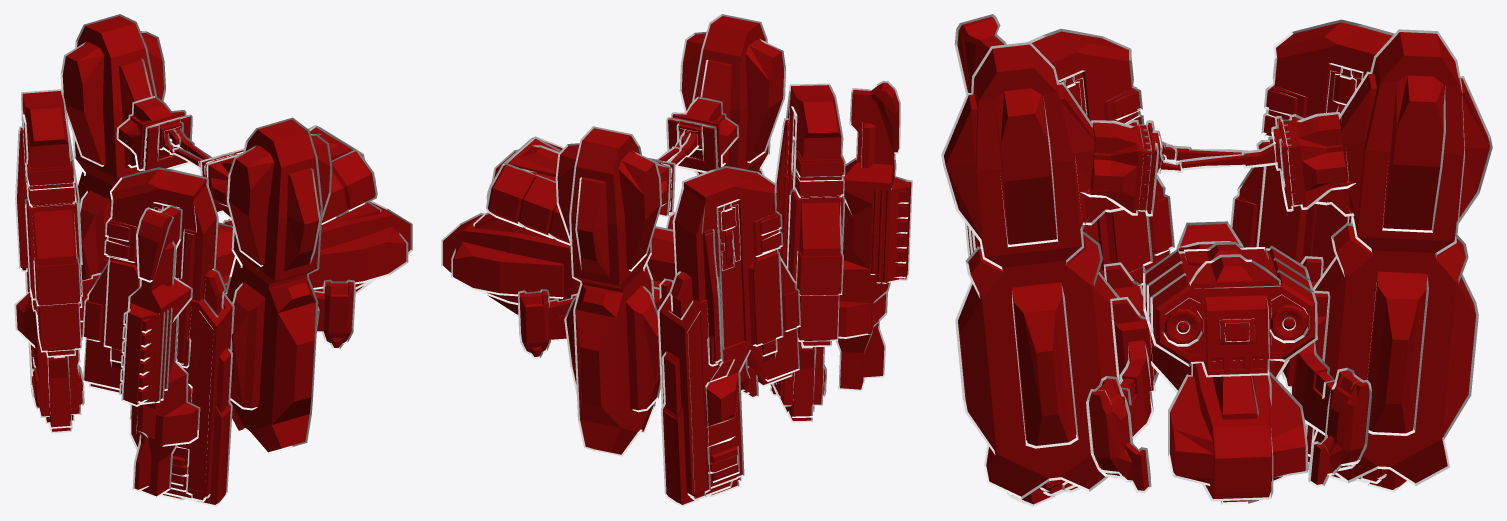
Rendered from ship20_red.glb.
3 renders of one model, left to right at view 1: azimuth 30°, elevation 25°; view 2: azimuth 150°, elevation 25°; view 3: azimuth 270°, elevation 25°, orthographic. The views are drawn at different scales.
Parts seen in each view (by area): view 1: ME_ship_IndexedFaceSet; view 2: ME_ship_IndexedFaceSet; view 3: ME_ship_IndexedFaceSet.
Part boxes in pixels (bbox=[...]): ME_ship_IndexedFaceSet: bbox=[14, 14, 412, 506]; ME_ship_IndexedFaceSet: bbox=[441, 14, 912, 506]; ME_ship_IndexedFaceSet: bbox=[941, 14, 1492, 506].
Bounding box in the file's own units: 400 × 372 × 382.
